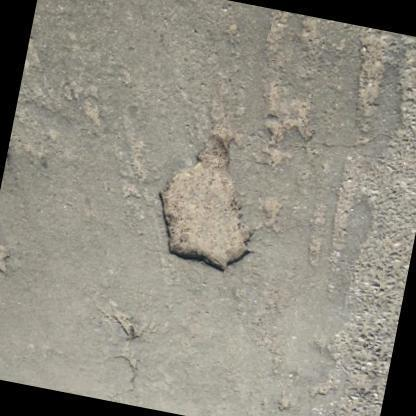pothole: (325, 197, 411, 416), (154, 126, 258, 274), (358, 28, 392, 116)
